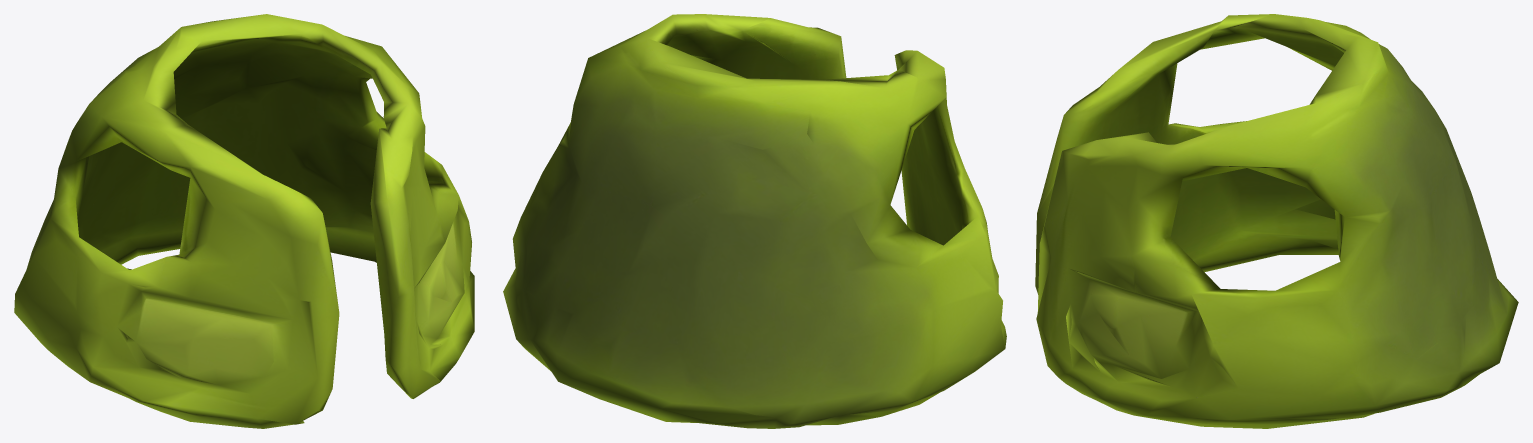
The model's file is dinosaur-body.glb.
3 renders of one model, left to right at view 1: azimuth 30°, elevation 25°; view 2: azimuth 150°, elevation 25°; view 3: azimuth 270°, elevation 25°, orthographic. The views are drawn at different scales.
Visible parts, largest first — view 1: tripo_node_3052a005; view 2: tripo_node_3052a005; view 3: tripo_node_3052a005.
Part boxes in pixels (bbox=[...]): tripo_node_3052a005: bbox=[14, 14, 474, 428]; tripo_node_3052a005: bbox=[503, 14, 1006, 428]; tripo_node_3052a005: bbox=[1035, 14, 1518, 428].
Size of the model in its own units: 0.557 by 0.386 by 0.555.
Materials: 1 (1 with a texture image).
